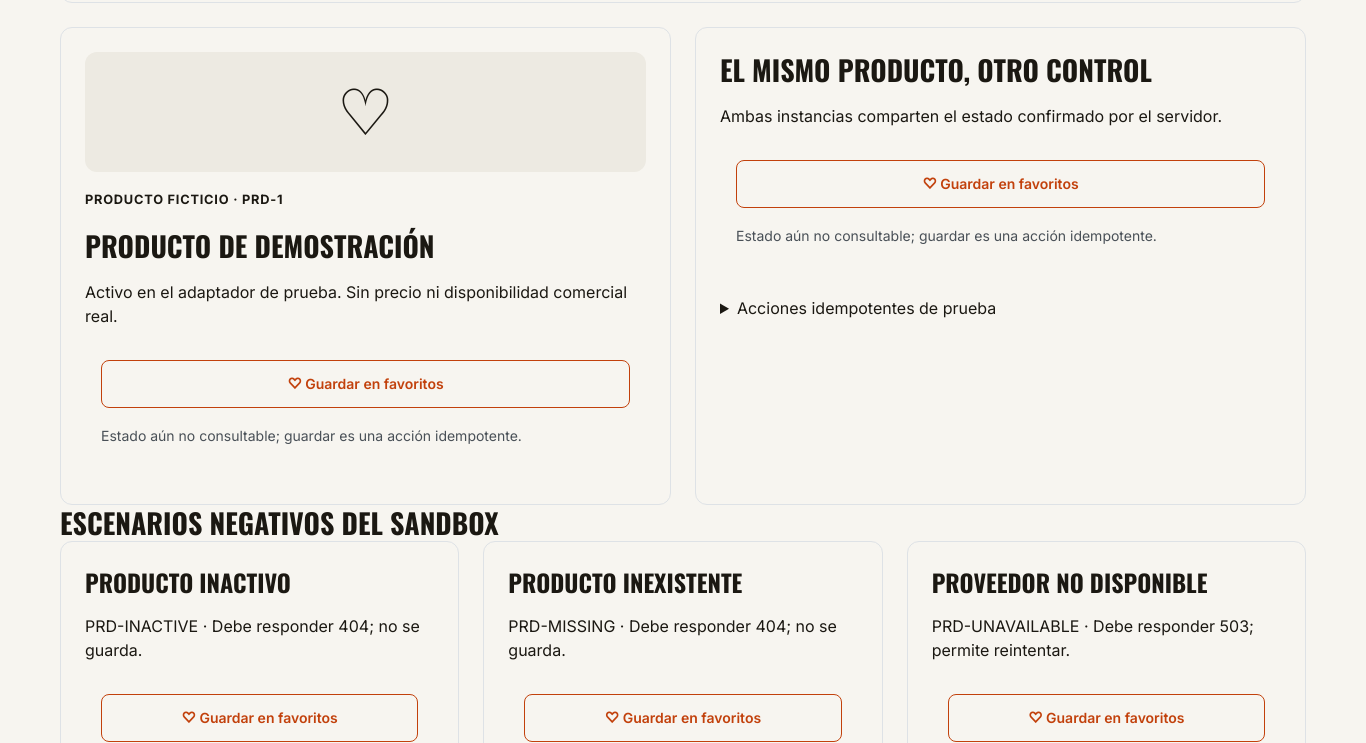
Test: shows 404 without a false confirmed favorite
(page scrolled)
Step 1. Click the button "♡ Guardar en favoritos" below "Producto de demostración" → x=366, y=384, box x1=101 y1=360 x2=630 y2=408
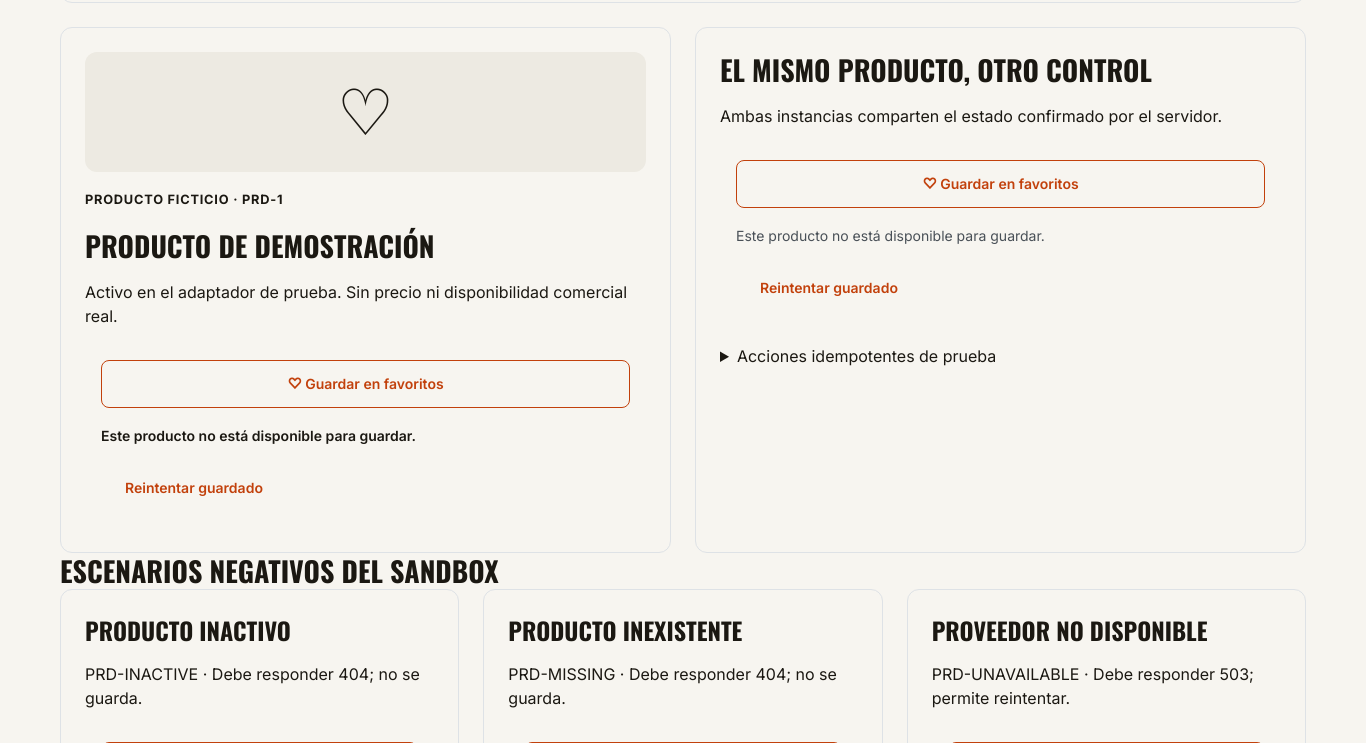
Now the message "Este producto no está disponible para guardar." is shown, box x1=101 y1=427 x2=416 y2=444
